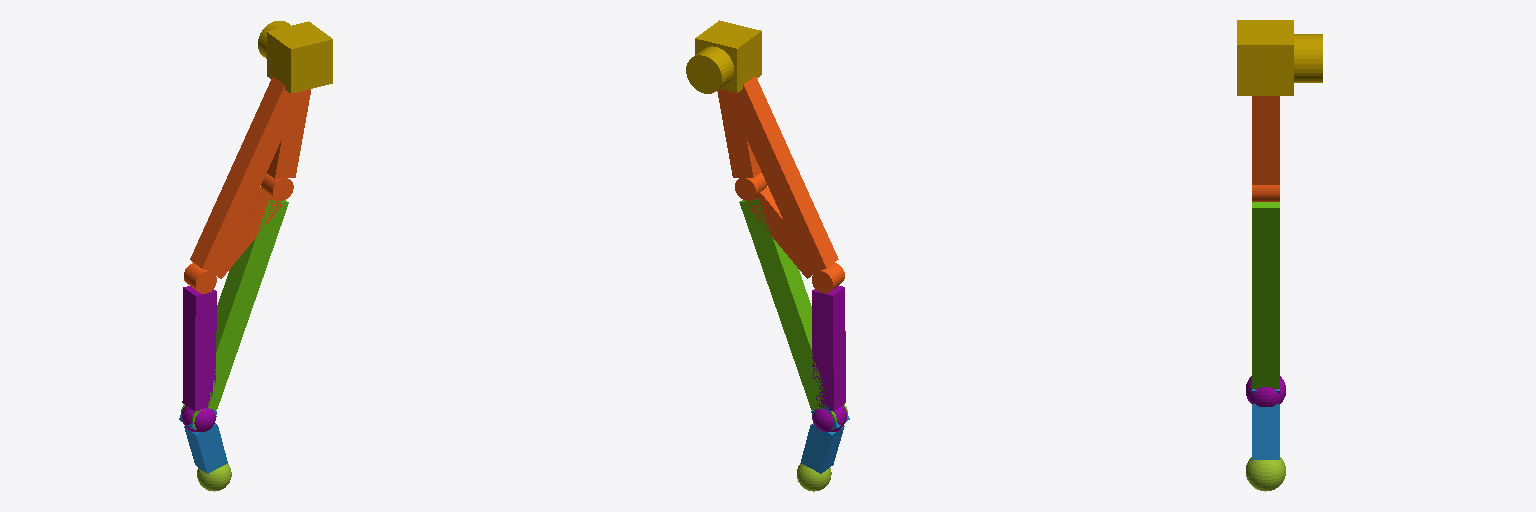
URDF robot description (Robot):
<?xml version="1.0"?>
<robot  name="Robot" >
 <link  name="L3" >
  <visual >
   <origin  rpy="0.0 4.440892098500626e-16 0.0"  xyz="-5.041410108656904e-17 0.0 0.11240305297740992" />
   <geometry >
    <box  size="0.04 0.04 0.18480610595481983" />
   </geometry>
   <material  name="L3_Material" >
    <color  rgba="0.9489204915836907 0.40456783254169204 0.13490998075837624 1.0" />
   </material>
  </visual>
  <collision  name="L3_0_Collision" >
   <origin  rpy="0.0 4.440892098500626e-16 0.0"  xyz="-5.041410108656904e-17 0.0 0.11240305297740992" />
   <geometry >
    <box  size="0.04 0.04 0.18480610595481983" />
   </geometry>
  </collision>
  <visual >
   <origin  rpy="0.0 0.6315989704892955 0.0"  xyz="0.058285535929490054 0.0 0.3044783285873756" />
   <geometry >
    <box  size="0.04 0.04 0.15743218337241185" />
   </geometry>
   <material  name="L3_Material" >
    <color  rgba="0.9489204915836907 0.40456783254169204 0.13490998075837624 1.0" />
   </material>
  </visual>
  <collision  name="L3_1_Collision" >
   <origin  rpy="0.0 0.6315989704892955 0.0"  xyz="0.058285535929490054 0.0 0.3044783285873756" />
   <geometry >
    <box  size="0.04 0.04 0.15743218337241185" />
   </geometry>
  </collision>
  <visual >
   <origin  rpy="0.0 0.29462031839762415 0.0"  xyz="0.0582855359294901 0.0 0.19207527560996568" />
   <geometry >
    <box  size="0.04 0.04 0.3614479552780518" />
   </geometry>
   <material  name="L3_Material" >
    <color  rgba="0.9489204915836907 0.40456783254169204 0.13490998075837624 1.0" />
   </material>
  </visual>
  <collision  name="L3_2_Collision" >
   <origin  rpy="0.0 0.29462031839762415 0.0"  xyz="0.0582855359294901 0.0 0.19207527560996568" />
   <geometry >
    <box  size="0.04 0.04 0.3614479552780518" />
   </geometry>
  </collision>
  <inertial >
   <origin  rpy="0.0 0.0 0.0"  xyz="0.03886 0.0 0.20299" />
   <mass  value="0.7075589957531151" />
   <inertia  ixz="-0.0012452211811197105"  ixy="1.9058241313221758e-20"  iyy="0.00492692421305846"  izz="0.0006285016584430776"  ixx="0.004487104953482881"  iyz="0.0" />
  </inertial>
 </link>
 <link  name="G" >
  <visual >
   <origin  rpy="0.0 0.0 0.0"  xyz="0.0 0.0 0.0" />
   <geometry >
    <box  size="0.08 0.08 0.08" />
   </geometry>
   <material  name="G_Material" >
    <color  rgba="0.7720277480230913 0.6396255314372624 0.0379761331688907 1.0" />
   </material>
  </visual>
  <collision  name="G_Collision" >
   <origin  rpy="0.0 0.0 0.0"  xyz="0.0 0.0 0.0" />
   <geometry >
    <box  size="0.08 0.08 0.08" />
   </geometry>
  </collision>
  <inertial >
   <origin  rpy="0.0 0.0 0.0"  xyz="0.0 0.0 0.0" />
   <mass  value="1.3824000000000003" />
   <inertia  ixz="0.0"  ixy="0.0"  iyy="0.0014745600000000004"  izz="0.0014745600000000004"  ixx="0.0014745600000000004"  iyz="0.0" />
  </inertial>
 </link>
 <link  name="L4" >
  <visual >
   <origin  rpy="0.0 0.0 0.0"  xyz="0.0 0.0 0.12406" />
   <geometry >
    <box  size="0.04 0.04 0.208113159193445" />
   </geometry>
   <material  name="L4_Material" >
    <color  rgba="0.6321513744780578 0.08481510651894797 0.660215021700418 1.0" />
   </material>
  </visual>
  <collision  name="L4_Collision" >
   <origin  rpy="0.0 0.0 0.0"  xyz="0.0 0.0 0.12406" />
   <geometry >
    <box  size="0.04 0.04 0.208113159193445" />
   </geometry>
  </collision>
  <inertial >
   <origin  rpy="0.0 0.0 0.0"  xyz="0.0 0.0 0.12406" />
   <mass  value="0.8990488477156825" />
   <inertia  ixz="0.0"  ixy="0.0"  iyy="0.003364771753625774"  izz="0.00023974635939084867"  ixx="0.003364771753625774"  iyz="0.0" />
  </inertial>
 </link>
 <link  name="L5" >
  <visual >
   <origin  rpy="0.0 0.0 0.0"  xyz="0.0 0.0 0.05905165835078802" />
   <geometry >
    <box  size="0.04 0.04 0.0781033167015758" />
   </geometry>
   <material  name="L5_Material" >
    <color  rgba="0.191132139875961 0.5383635488816468 0.7808682506141833 1.0" />
   </material>
  </visual>
  <collision  name="L5_0_Collision" >
   <origin  rpy="0.0 0.0 0.0"  xyz="0.0 0.0 0.05905165835078802" />
   <geometry >
    <box  size="0.04 0.04 0.0781033167015758" />
   </geometry>
  </collision>
  <visual >
   <origin  rpy="-3.141592653589793 -0.023665528281153314 3.141592653589793"  xyz="-0.001366455961445301 0.0 0.06037374321211447" />
   <geometry >
    <box  size="0.04 0.04 0.0754914863904643" />
   </geometry>
   <material  name="L5_Material" >
    <color  rgba="0.191132139875961 0.5383635488816468 0.7808682506141833 1.0" />
   </material>
  </visual>
  <collision  name="L5_1_Collision" >
   <origin  rpy="-3.141592653589793 -0.023665528281153314 3.141592653589793"  xyz="-0.001366455961445301 0.0 0.06037374321211447" />
   <geometry >
    <box  size="0.04 0.04 0.0754914863904643" />
   </geometry>
  </collision>
  <visual >
   <origin  rpy="0.0 -0.8019004503912998 0.0"  xyz="-0.001366455961445301 0.0 0.0013220848613265668" />
   <geometry >
    <box  size="0.04 0.04 -0.03619731133269209" />
   </geometry>
   <material  name="L5_Material" >
    <color  rgba="0.191132139875961 0.5383635488816468 0.7808682506141833 1.0" />
   </material>
  </visual>
  <collision  name="L5_2_Collision" >
   <origin  rpy="0.0 -0.8019004503912998 0.0"  xyz="-0.001366455961445301 0.0 0.0013220848613265668" />
   <geometry >
    <box  size="0.04 0.04 -0.03619731133269209" />
   </geometry>
  </collision>
  <inertial >
   <origin  rpy="0.0 0.0 0.0"  xyz="-0.00091 0.0 0.04025" />
   <mass  value="0.008714680983359854" />
   <inertia  ixz="-7.463480966324103e-08"  ixy="-4.652890945610781e-24"  iyy="6.608908401209273e-06"  izz="1.1655734879568412e-06"  ixx="7.767249842148391e-06"  iyz="0.0" />
  </inertial>
 </link>
 <link  name="EE" >
  <visual >
   <origin  rpy="0.0 0.0 0.0"  xyz="0.0 0.0 0.0" />
   <geometry >
    <sphere  radius="0.028571428571428574" />
   </geometry>
   <material  name="EE_Material" >
    <color  rgba="0.6200764478738867 0.7600747533648031 0.22089966309379028 1.0" />
   </material>
  </visual>
  <collision  name="EE_Collision" >
   <origin  rpy="0.0 0.0 0.0"  xyz="0.0 0.0 0.0" />
   <geometry >
    <sphere  radius="0.028571428571428574" />
   </geometry>
  </collision>
  <inertial >
   <origin  rpy="0.0 0.0 0.0"  xyz="0.0 0.0 0.0" />
   <mass  value="0.2637838729544783" />
   <inertia  ixz="0.0"  ixy="0.0"  iyy="8.61335095361562e-05"  izz="8.61335095361562e-05"  ixx="8.61335095361562e-05"  iyz="0.0" />
  </inertial>
 </link>
 <link  name="L6" >
  <visual >
   <origin  rpy="0.0 0.0 0.0"  xyz="-0.0 0.0 0.20446" />
   <geometry >
    <box  size="0.04 0.04 0.3689280977973105" />
   </geometry>
   <material  name="L6_Material" >
    <color  rgba="0.4376078047882892 0.7513060956113852 0.11816608908444337 1.0" />
   </material>
  </visual>
  <collision  name="L6_Collision" >
   <origin  rpy="0.0 0.0 0.0"  xyz="-0.0 0.0 0.20446" />
   <geometry >
    <box  size="0.04 0.04 0.3689280977973105" />
   </geometry>
  </collision>
  <inertial >
   <origin  rpy="0.0 0.0 0.0"  xyz="-0.0 0.0 0.20446" />
   <mass  value="1.5937693824843815" />
   <inertia  ixz="0.0"  ixy="0.0"  iyy="0.0182895583866306"  izz="0.00042500516866250177"  ixx="0.0182895583866306"  iyz="0.0" />
  </inertial>
 </link>
 <joint  name="G0main"  type="revolute" >
  <parent  link="G" />
  <child  link="L3" />
  <origin  rpy="3.141592653589793 -0.1940721171876849 3.141592653589793"  xyz="0.0 0.0 0.0" />
  <axis  xyz="0 1 0" />
  <limit  velocity="17.907078125461823"  upper="3.141592653589793"  effort="5.3999999999999995"  lower="-3.141592653589793" />
  <dynamics  friction="0"  damping="0.05" />
 </joint>
 <joint  name="G0main_G_WeldActuator"  type="fixed" >
  <parent  link="G" />
  <child  link="G0main_GActuator" />
  <origin  rpy="-1.5707963267948966 -0.1940721171876849 -3.141592653589793"  xyz="0.0 0.05975 0.0" />
 </joint>
 <link  name="G0main_GActuator" >
  <visual >
   <geometry >
    <cylinder  length="0.0395"  radius="0.034" />
   </geometry>
   <material  name="G0main_GActuator_Material" >
    <color  rgba="0.7720277480230913 0.6396255314372624 0.0379761331688907 0.9" />
   </material>
  </visual>
  <inertial >
   <inertia  ixz="0.0"  ixy="0.0"  iyy="0.004339333333333334"  izz="0.006256"  ixx="0.004339333333333334"  iyz="0.0" />
   <mass  value="0.1" />
  </inertial>
 </link>
 <link  name="G0main_GUnit" >
  <visual >
   <geometry >
    <cylinder  length="0.08"  radius="0.04" />
   </geometry>
   <material  name="G0main_GUnit_Material" >
    <color  rgba="0.7720277480230913 0.6396255314372624 0.0379761331688907 0.9" />
   </material>
  </visual>
  <inertial >
   <inertia  ixz="0.0"  ixy="0.0"  iyy="0.0016666666666666666"  izz="0.002"  ixx="0.0016666666666666666"  iyz="0.0" />
   <mass  value="0.1" />
  </inertial>
 </link>
 <joint  name="G0main_G_WeldUnit"  type="fixed" >
  <parent  link="G" />
  <child  link="G0main_GUnit" />
  <origin  rpy="-1.5707963267948966 -0.1940721171876849 -3.141592653589793"  xyz="0.0 0.0 0.0" />
 </joint>
 <joint  name="J0m"  type="revolute" >
  <parent  link="L3" />
  <child  link="L4" />
  <origin  rpy="0.0 -0.1853619848621504 0.0"  xyz="0.1165710718589802 0.0 0.38415055121993136" />
  <axis  xyz="0 1 0" />
  <limit  velocity="6.283185307179586"  upper="3.141592653589793"  effort="600.0"  lower="-3.141592653589793" />
  <dynamics  friction="0"  damping="0.05" />
 </joint>
 <link  name="J0m_L3Unit" >
  <visual >
   <geometry >
    <cylinder  length="0.04"  radius="0.02" />
   </geometry>
   <material  name="J0m_L3Unit_Material" >
    <color  rgba="0.9489204915836907 0.40456783254169204 0.13490998075837624 0.9" />
   </material>
  </visual>
  <inertial >
   <inertia  ixz="0.0"  ixy="0.0"  iyy="0.0008333333333333333"  izz="0.001"  ixx="0.0008333333333333333"  iyz="0.0" />
   <mass  value="0.1" />
  </inertial>
 </link>
 <joint  name="J0m_L3_WeldUnit"  type="fixed" >
  <parent  link="L3" />
  <child  link="J0m_L3Unit" />
  <origin  rpy="1.5707963267948966 -0.1853619848621504 0.0"  xyz="0.1165710718589802 0.0 0.38415055121993136" />
 </joint>
 <link  name="J1m_L4Pseudo" >
  <visual >
   <geometry >
    <sphere  radius="0.028571428571428574" />
   </geometry>
   <material  name="J1m_L4Pseudo_Material" >
    <color  rgba="0.6321513744780578 0.08481510651894797 0.660215021700418 0.5" />
   </material>
  </visual>
 </link>
 <joint  name="J1m_L4_revolute"  type="revolute" >
  <parent  link="L4" />
  <child  link="J1m_L4Pseudo" />
  <origin  rpy="0.0 0.0 0.0"  xyz="6.38378239159465e-16 0.0 0.24811315919344507" />
  <axis  xyz="0 1 0" />
  <limit  velocity="6.283185307179586"  upper="3.141592653589793"  effort="600.0"  lower="-3.141592653589793" />
  <dynamics  friction="0"  damping="0.05" />
 </joint>
 <joint  name="J1m_L4_Weld"  type="fixed" >
  <parent  link="L5" />
  <child  link="J1m_L5Pseudo" />
  <origin  rpy="0.0 0.2849311239419876 0.0"  xyz="-0.002732911922890574 0.0 0.002644169722653078" />
 </joint>
 <link  name="J1m_L5Pseudo" >
  <visual >
   <geometry >
    <sphere  radius="0.028571428571428574" />
   </geometry>
   <material  name="J1m_L5Pseudo_Material" >
    <color  rgba="0.191132139875961 0.5383635488816468 0.7808682506141833 0.5" />
   </material>
  </visual>
 </link>
 <joint  name="Jee"  type="fixed" >
  <parent  link="L5" />
  <child  link="EE" />
  <origin  rpy="3.141592653589793 -0.27622099161645286 3.141592653589793"  xyz="0.0 0.0 0.11810331670157592" />
 </joint>
 <link  name="Jee_L5Unit" >
  <visual >
   <geometry >
    <cylinder  length="0.04"  radius="0.02" />
   </geometry>
   <material  name="Jee_L5Unit_Material" >
    <color  rgba="0.191132139875961 0.5383635488816468 0.7808682506141833 0.9" />
   </material>
  </visual>
  <inertial >
   <inertia  ixz="0.0"  ixy="0.0"  iyy="0.0008333333333333333"  izz="0.001"  ixx="0.0008333333333333333"  iyz="0.0" />
   <mass  value="0.1" />
  </inertial>
 </link>
 <joint  name="Jee_L5_WeldUnit"  type="fixed" >
  <parent  link="L5" />
  <child  link="Jee_L5Unit" />
  <origin  rpy="-1.570796326794897 -0.27622099161645286 3.1415926535897927"  xyz="0.0 0.0 0.11810331670157592" />
 </joint>
 <joint  name="J0_0"  type="revolute" >
  <parent  link="L3" />
  <child  link="L6" />
  <origin  rpy="0.0 0.18315120050913536 0.0"  xyz="-1.0082820217313808e-16 0.0 0.22480610595481984" />
  <axis  xyz="0 1 0" />
  <limit  velocity="6.283185307179586"  upper="3.141592653589793"  effort="600.0"  lower="-3.141592653589793" />
  <dynamics  friction="0"  damping="0.05" />
 </joint>
 <link  name="J0_0_L3Unit" >
  <visual >
   <geometry >
    <cylinder  length="0.04"  radius="0.02" />
   </geometry>
   <material  name="J0_0_L3Unit_Material" >
    <color  rgba="0.9489204915836907 0.40456783254169204 0.13490998075837624 0.9" />
   </material>
  </visual>
  <inertial >
   <inertia  ixz="0.0"  ixy="0.0"  iyy="0.0008333333333333333"  izz="0.001"  ixx="0.0008333333333333333"  iyz="0.0" />
   <mass  value="0.1" />
  </inertial>
 </link>
 <joint  name="J0_0_L3_WeldUnit"  type="fixed" >
  <parent  link="L3" />
  <child  link="J0_0_L3Unit" />
  <origin  rpy="1.5707963267948966 0.18315120050913536 -1.1102230246251565e-16"  xyz="-1.0082820217313808e-16 0.0 0.22480610595481984" />
 </joint>
 <joint  name="J1_0"  type="revolute" >
  <parent  link="L6" />
  <child  link="L5" />
  <origin  rpy="0.0 -0.6534443093132728 0.0"  xyz="-9.71445146547012e-17 0.0 0.40892809779731043" />
  <axis  xyz="0 1 0" />
  <limit  velocity="6.283185307179586"  upper="3.141592653589793"  effort="600.0"  lower="-3.141592653589793" />
  <dynamics  friction="0"  damping="0.05" />
 </joint>
 <link  name="J1_0_L6Unit" >
  <visual >
   <geometry >
    <cylinder  length="0.04"  radius="0.02" />
   </geometry>
   <material  name="J1_0_L6Unit_Material" >
    <color  rgba="0.4376078047882892 0.7513060956113852 0.11816608908444337 0.9" />
   </material>
  </visual>
  <inertial >
   <inertia  ixz="0.0"  ixy="0.0"  iyy="0.0008333333333333333"  izz="0.001"  ixx="0.0008333333333333333"  iyz="0.0" />
   <mass  value="0.1" />
  </inertial>
 </link>
 <joint  name="J1_0_L6_WeldUnit"  type="fixed" >
  <parent  link="L6" />
  <child  link="J1_0_L6Unit" />
  <origin  rpy="1.5707963267948961 -0.6534443093132728 2.220446049250313e-16"  xyz="-9.71445146547012e-17 0.0 0.40892809779731043" />
 </joint>
</robot>

--- What the picture shows (computed from the rendered views, not written in the file) ---
The picture shows the robot from 3 angles, left to right: view 1: azimuth 30°, elevation 25°; view 2: azimuth 150°, elevation 25°; view 3: azimuth 270°, elevation 25°; orthographic projection.
Robot: Robot — 14 links, 13 joints (5 revolute, 8 fixed); root link G; default pose: every joint at zero.
Visible links, largest first — view 1: L3, L6, L4, G, L5, G0main_GUnit, J0m_L3Unit, EE, J1m_L4Pseudo, J0_0_L3Unit; view 2: L3, L6, L4, G, G0main_GActuator, L5, J0m_L3Unit, EE, J1m_L4Pseudo, J0_0_L3Unit; view 3: L6, G, L3, L5, G0main_GActuator, EE, J1m_L4Pseudo.
Link boxes in pixels (x1,y1,x2,y2): L3: (190, 77, 310, 278); L6: (208, 199, 288, 409); L4: (182, 286, 216, 411); G: (267, 21, 332, 93); L5: (179, 408, 227, 473); G0main_GUnit: (291, 44, 332, 88); J0m_L3Unit: (184, 263, 216, 293); EE: (197, 464, 231, 491); J1m_L4Pseudo: (182, 405, 216, 431); J0_0_L3Unit: (261, 173, 293, 200); L3: (717, 76, 838, 278); L6: (739, 199, 824, 409); L4: (812, 286, 845, 411); G: (695, 20, 761, 92); G0main_GActuator: (686, 46, 733, 93); L5: (801, 406, 849, 473); J0m_L3Unit: (812, 263, 844, 293); EE: (797, 463, 831, 491); J1m_L4Pseudo: (812, 405, 846, 431); J0_0_L3Unit: (735, 173, 767, 200); L6: (1252, 202, 1279, 388); G: (1237, 20, 1293, 95); L3: (1252, 96, 1279, 184); L5: (1252, 389, 1279, 459); G0main_GActuator: (1294, 34, 1322, 82); EE: (1246, 457, 1285, 491); J1m_L4Pseudo: (1246, 376, 1285, 406).
Bounding box of the posed robot: 0.2592 × 0.1195 × 0.783 m (x, y, z).
Geometry: primitives only (box / cylinder / sphere), no mesh files.
